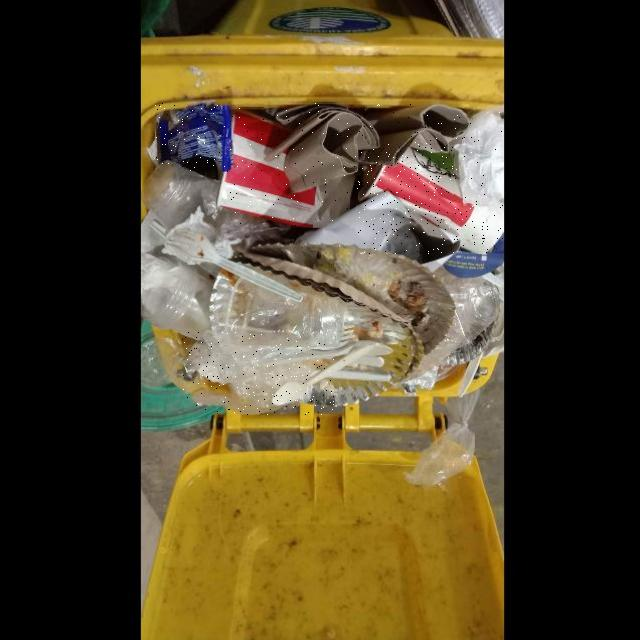paper: (264, 103, 470, 193), (217, 108, 356, 227), (358, 147, 503, 253), (455, 107, 503, 205)
plastic: (182, 332, 336, 415)
wrapper: (156, 103, 233, 170)
